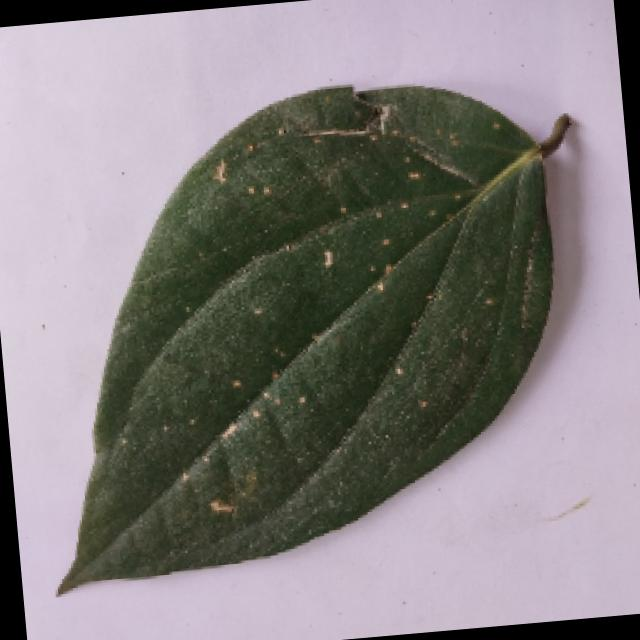pollu-disease: (10, 56, 620, 584)
